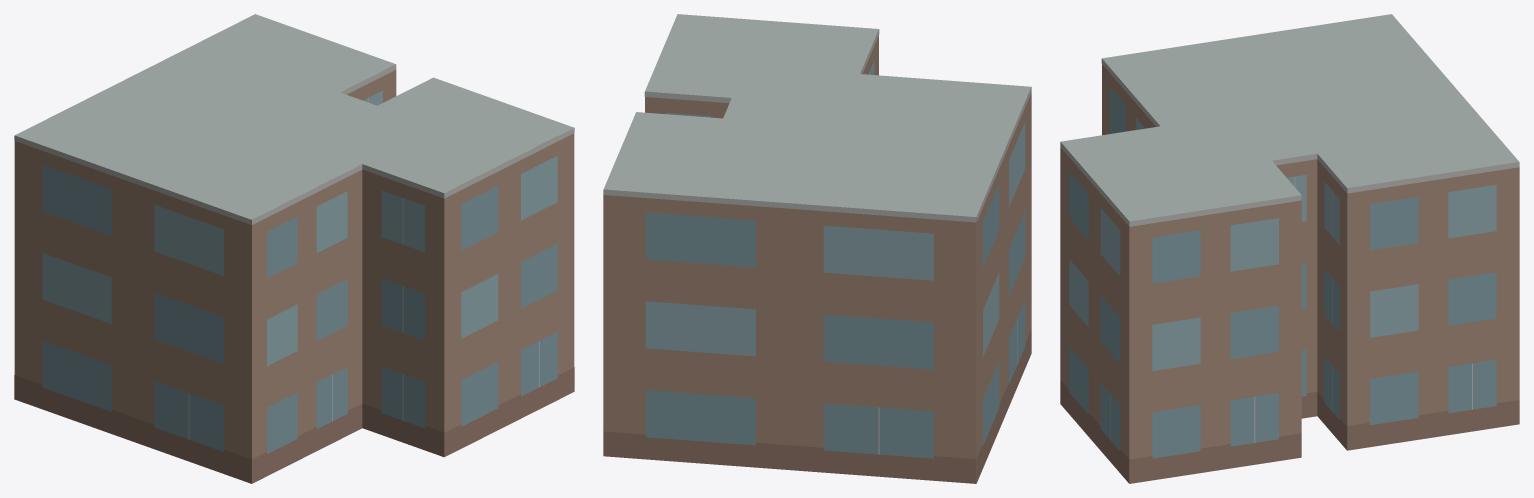
The model's file is survey-upis-32624518.glb.
3 views of the same model, side by side, from view 1: azimuth 30°, elevation 25°; view 2: azimuth 150°, elevation 25°; view 3: azimuth 270°, elevation 25° (orthographic).
Parts seen in each view (by area): view 1: survey-upis-32624518.tmp; view 2: survey-upis-32624518.tmp; view 3: survey-upis-32624518.tmp.
Part boxes in pixels (x1,y1,x2,y2): survey-upis-32624518.tmp: [14, 14, 574, 483]; survey-upis-32624518.tmp: [603, 14, 1031, 483]; survey-upis-32624518.tmp: [1060, 14, 1519, 483].
Size of the model in its own units: 20.36 by 12 by 19.04.
